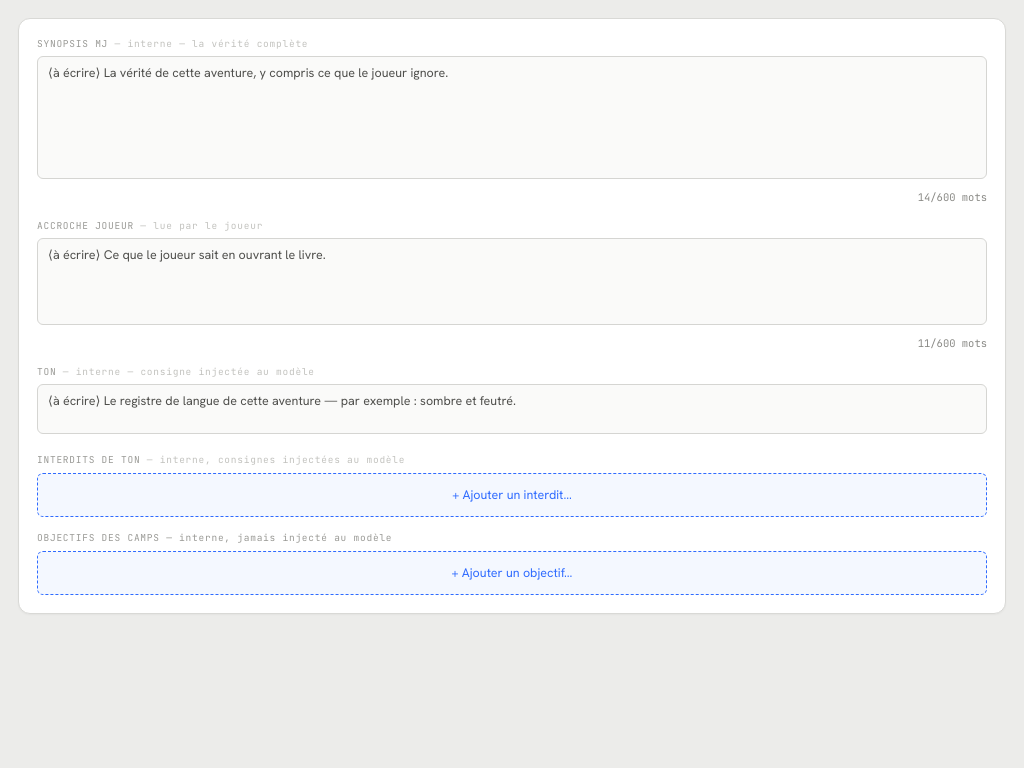
Test: PanneauCanon › ajouter un interdit de ton l ajoute a la liste persistee, sans attendre un blur
Click the button "+ Ajouter un interdit…".
click(512, 495)  # box [37,473,987,517]
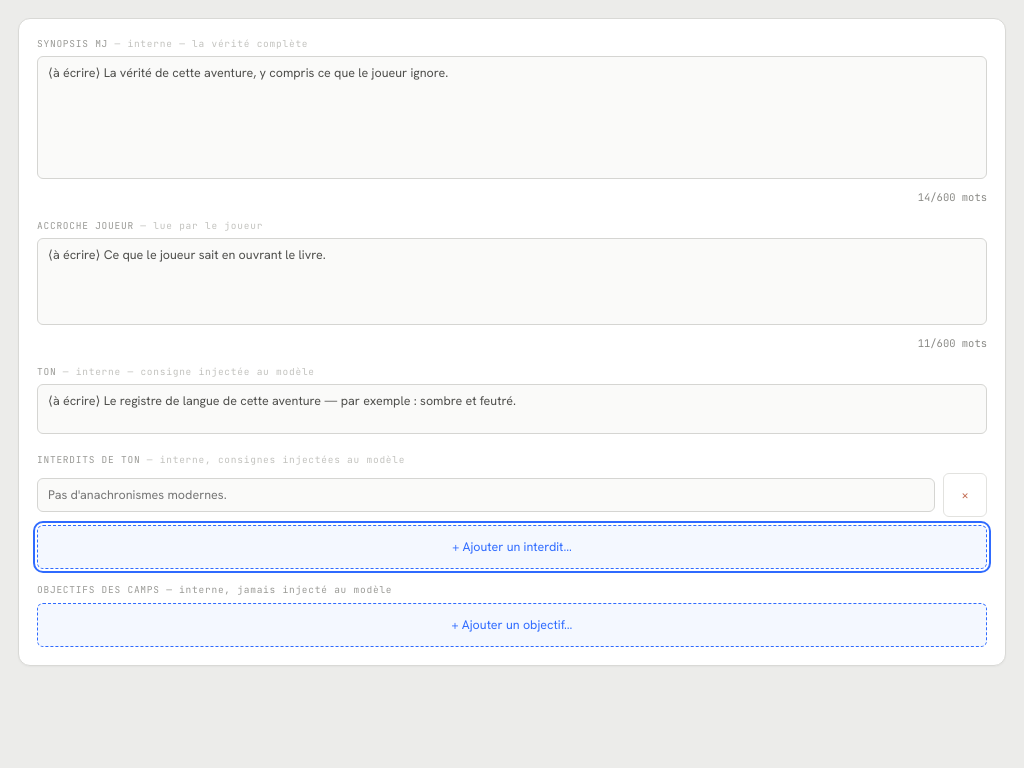
Expected: the field named "Interdit de ton n°1" is shown, [37,478,935,512]
